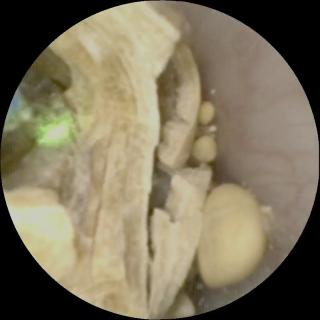laser: (38, 118, 71, 146)
stone: (5, 4, 212, 314), (199, 184, 263, 285), (192, 136, 216, 163), (199, 102, 215, 124)
